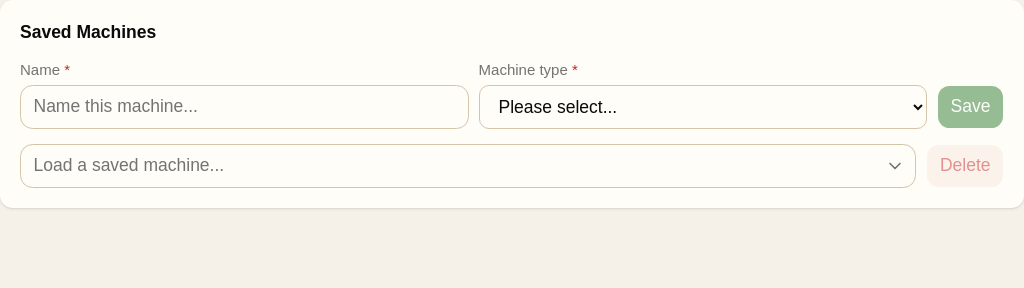
Scenario: SaveLoadToolbar - machine type dropdown › resets machine type to placeholder when the last machine is deleted
Click the text "Load a saved machine...": (129, 166) [34, 156, 224, 176]
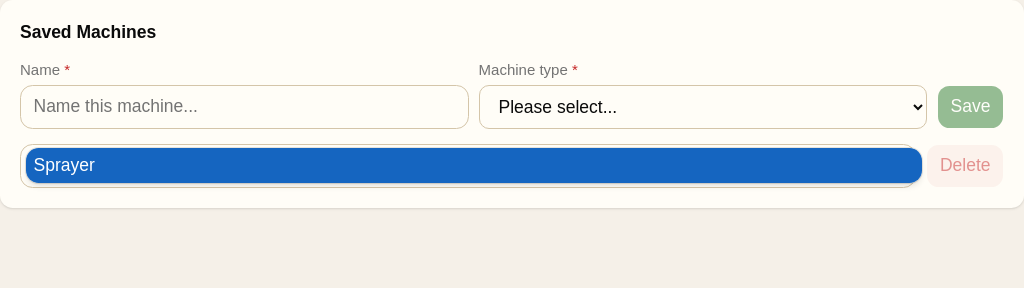
Click the option "Sprayer": (64, 165) [26, 148, 922, 184]
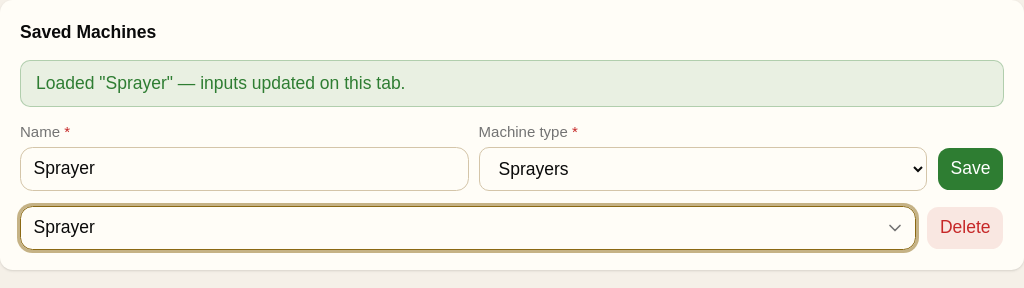
Click the button "Delete": (965, 228) [926, 206, 1004, 250]
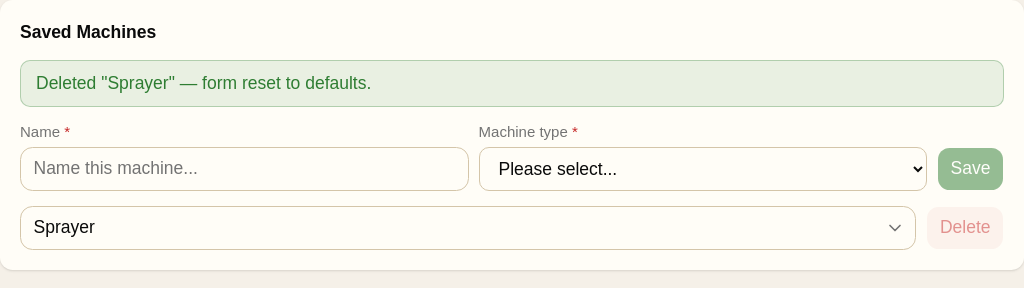
Now the dropdown labelled "Machine type *" shows "Please select...", box [478, 147, 927, 191]
